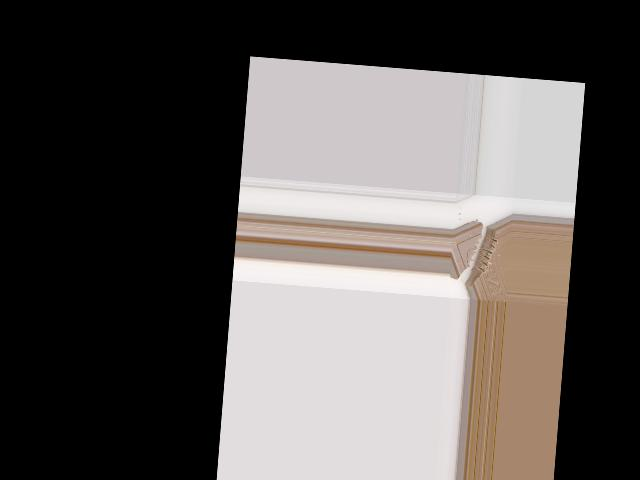chocolate: (447, 208, 512, 301)
